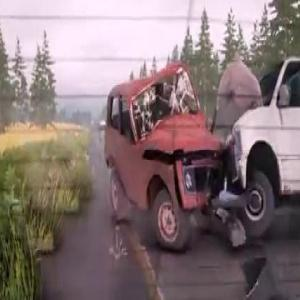low_impact: (100, 42, 300, 250)
